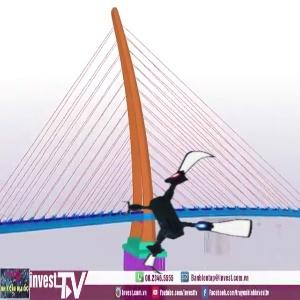drone: (120, 143, 255, 278)
